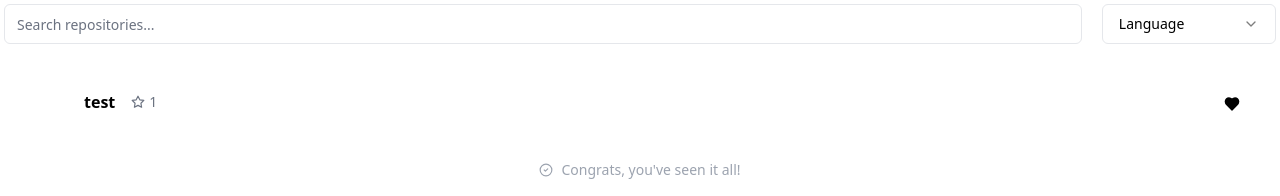
Test: should remove repo local storage when remove from favorite is clicked
This screenshot has width=1280, height=196.
Click the button named "Remove from favorites".
click(1232, 104)  # box x1=1216 y1=88 x2=1248 y2=120
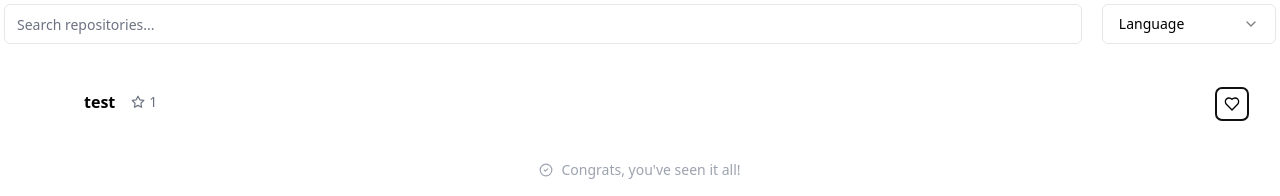
Expected: the button named "Save as favorite" is shown, x1=1216 y1=88 x2=1248 y2=120
